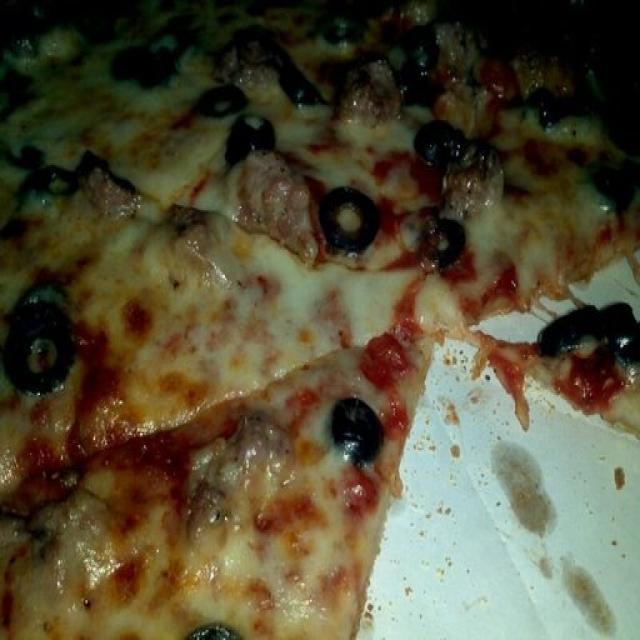Olives: (545, 308, 640, 365), (12, 290, 69, 382), (328, 395, 394, 470), (378, 34, 446, 100), (315, 191, 372, 255), (271, 48, 328, 106), (413, 207, 472, 259), (420, 120, 470, 172), (112, 42, 168, 87), (231, 109, 279, 159), (192, 76, 237, 115), (187, 617, 241, 640)
